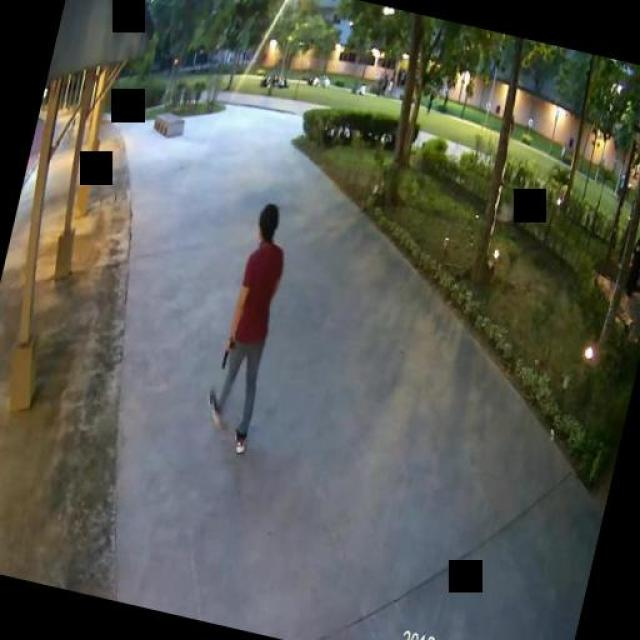gun: (218, 335, 232, 366)
